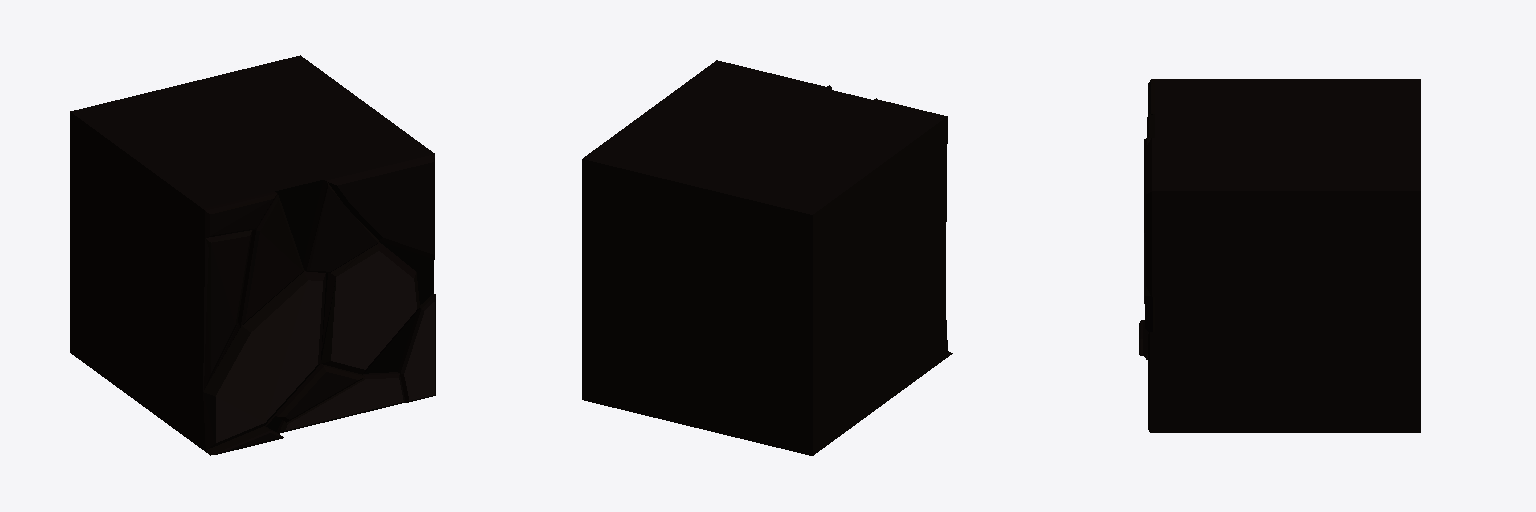
The model's file is Block.obj.
3 views of the same model, side by side, from view 1: azimuth 30°, elevation 25°; view 2: azimuth 150°, elevation 25°; view 3: azimuth 270°, elevation 25° (orthographic).
Visible parts, largest first — view 1: Cube.003; view 2: Cube.003; view 3: Cube.003.
Boxes of the visible parts, box(x1,y1,x2,y2) form: Cube.003: box(70, 55, 435, 455); Cube.003: box(582, 60, 952, 455); Cube.003: box(1139, 79, 1420, 432).
Size of the model in its own units: 2 by 2 by 2.13.